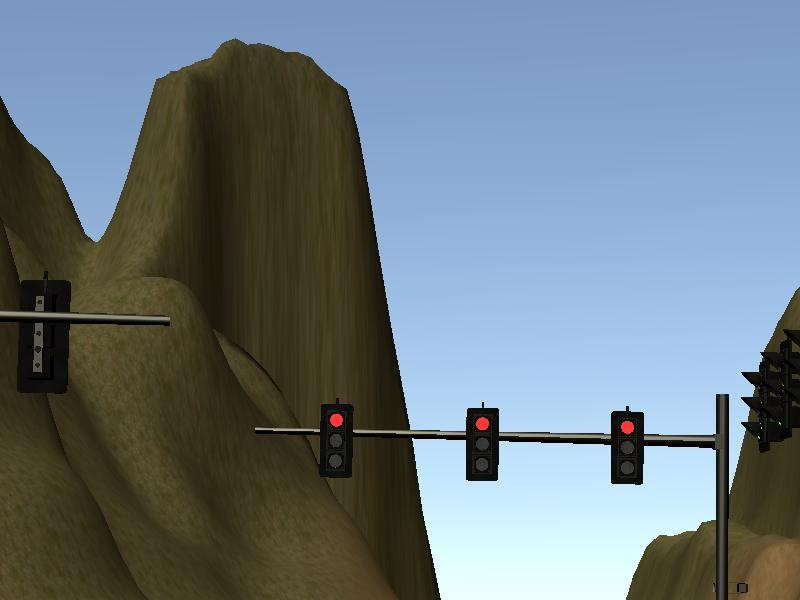red: (606, 403, 652, 492), (460, 400, 503, 486), (315, 399, 357, 482)
